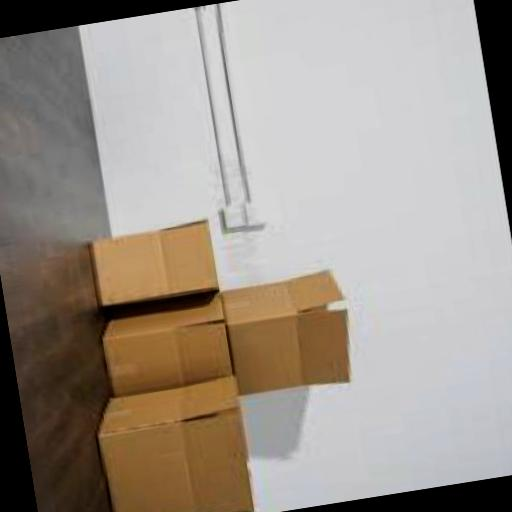cardboard: (89, 371, 261, 512), (219, 266, 361, 397), (96, 287, 237, 397), (90, 217, 220, 306)
